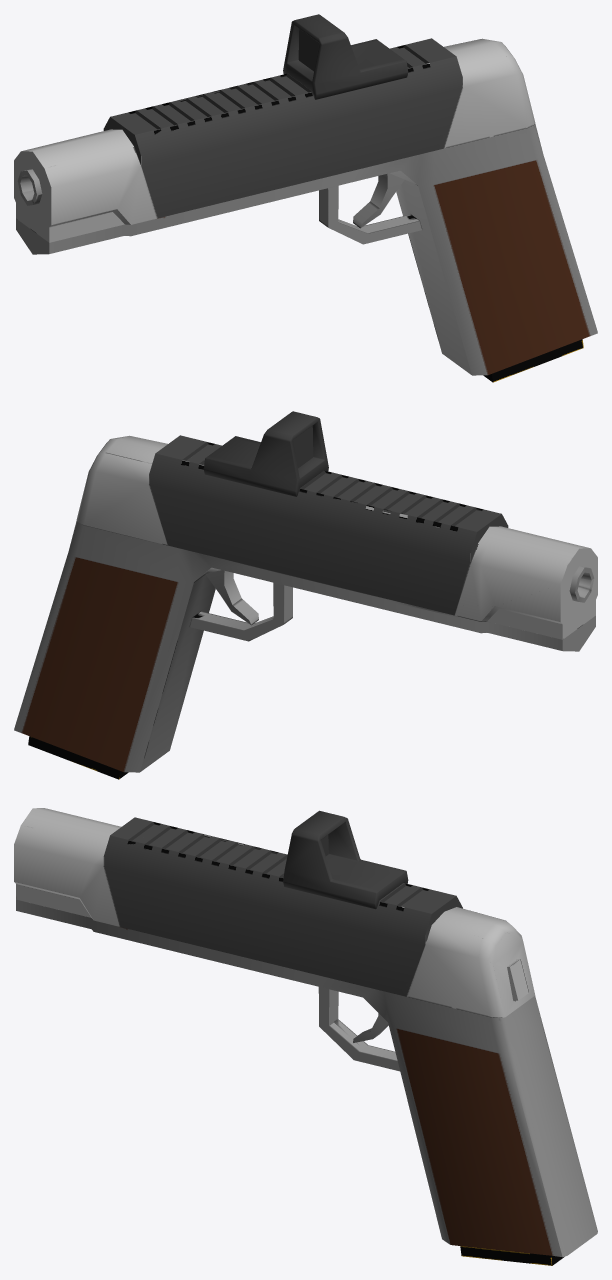
The picture shows the model from 3 angles, top to bottom: view 1: azimuth 30°, elevation 25°; view 2: azimuth 150°, elevation 25°; view 3: azimuth 330°, elevation 25°; orthographic projection.
Parts seen in each view (by area): view 1: Moving, Main, Sight, Mag; view 2: Moving, Main, Sight, Mag; view 3: Moving, Main, Sight, Mag.
Boxes of the visible parts, x1,y1,x2,y2 form: Moving: [14, 38, 535, 242]; Main: [16, 123, 597, 375]; Sight: [283, 14, 408, 99]; Mag: [483, 339, 583, 382]; Moving: [76, 435, 597, 639]; Main: [14, 520, 595, 772]; Sight: [203, 411, 328, 496]; Mag: [28, 736, 128, 779]; Moving: [14, 808, 535, 1017]; Main: [16, 899, 597, 1257]; Sight: [283, 810, 408, 909]; Mag: [460, 1246, 564, 1265].
Bounding box in the file's own units: 51.38 × 33.93 × 6.
Materials: 3 (2 with a texture image).
